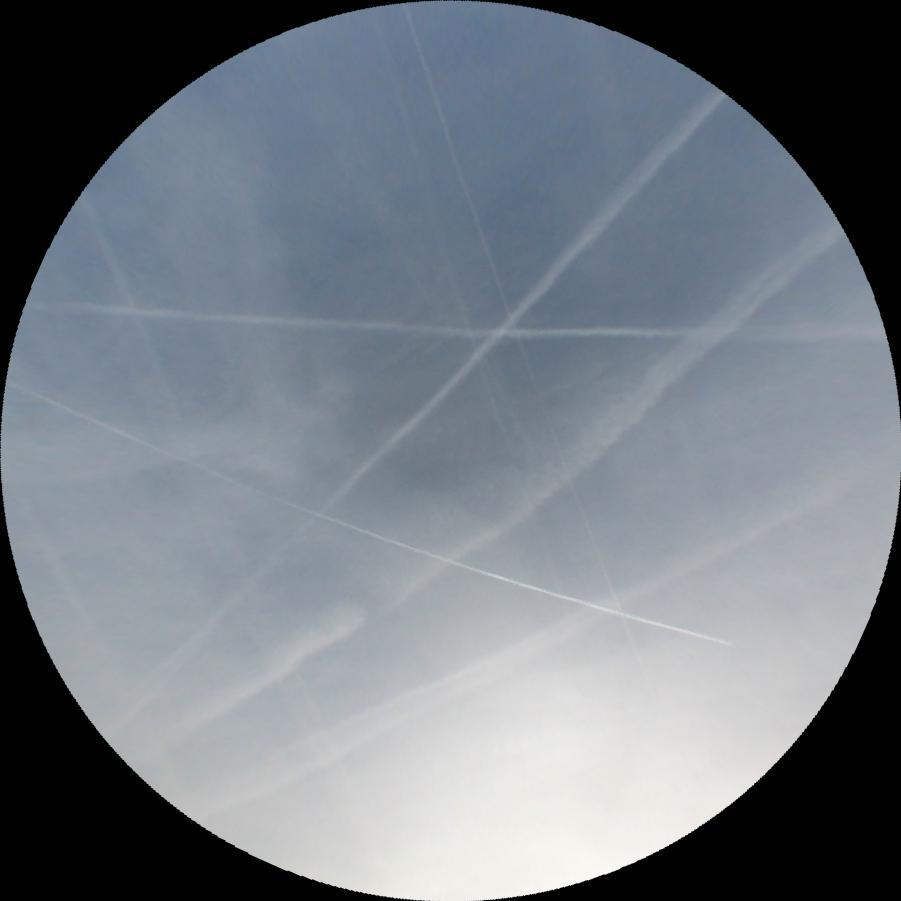contrail old: (97, 85, 728, 747), (361, 6, 591, 668), (23, 297, 883, 349)
contrail veryold: (166, 208, 860, 777), (199, 484, 840, 816), (52, 186, 355, 799)
contrail young: (0, 380, 734, 666), (399, 1, 645, 697)
